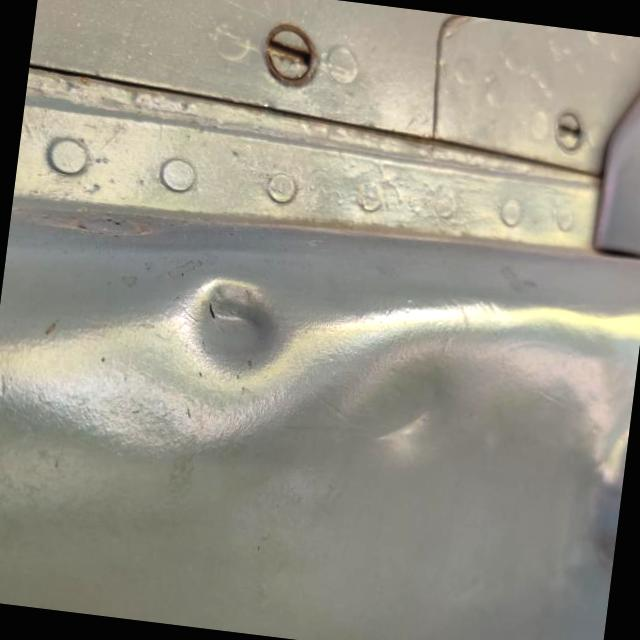dent: (164, 266, 294, 384), (345, 372, 451, 472)
